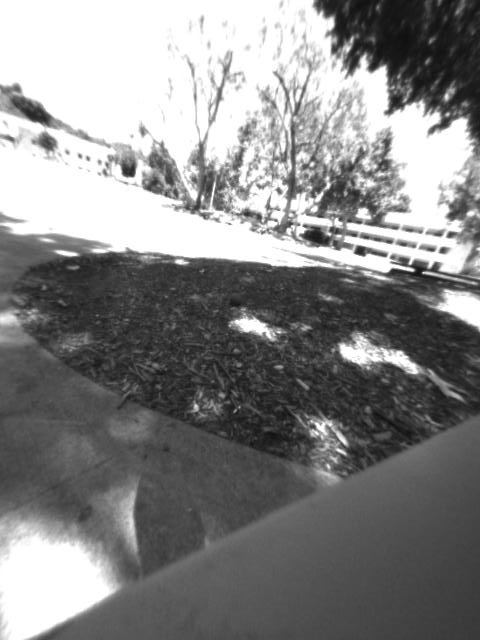dogtoy: (219, 287, 251, 313)
